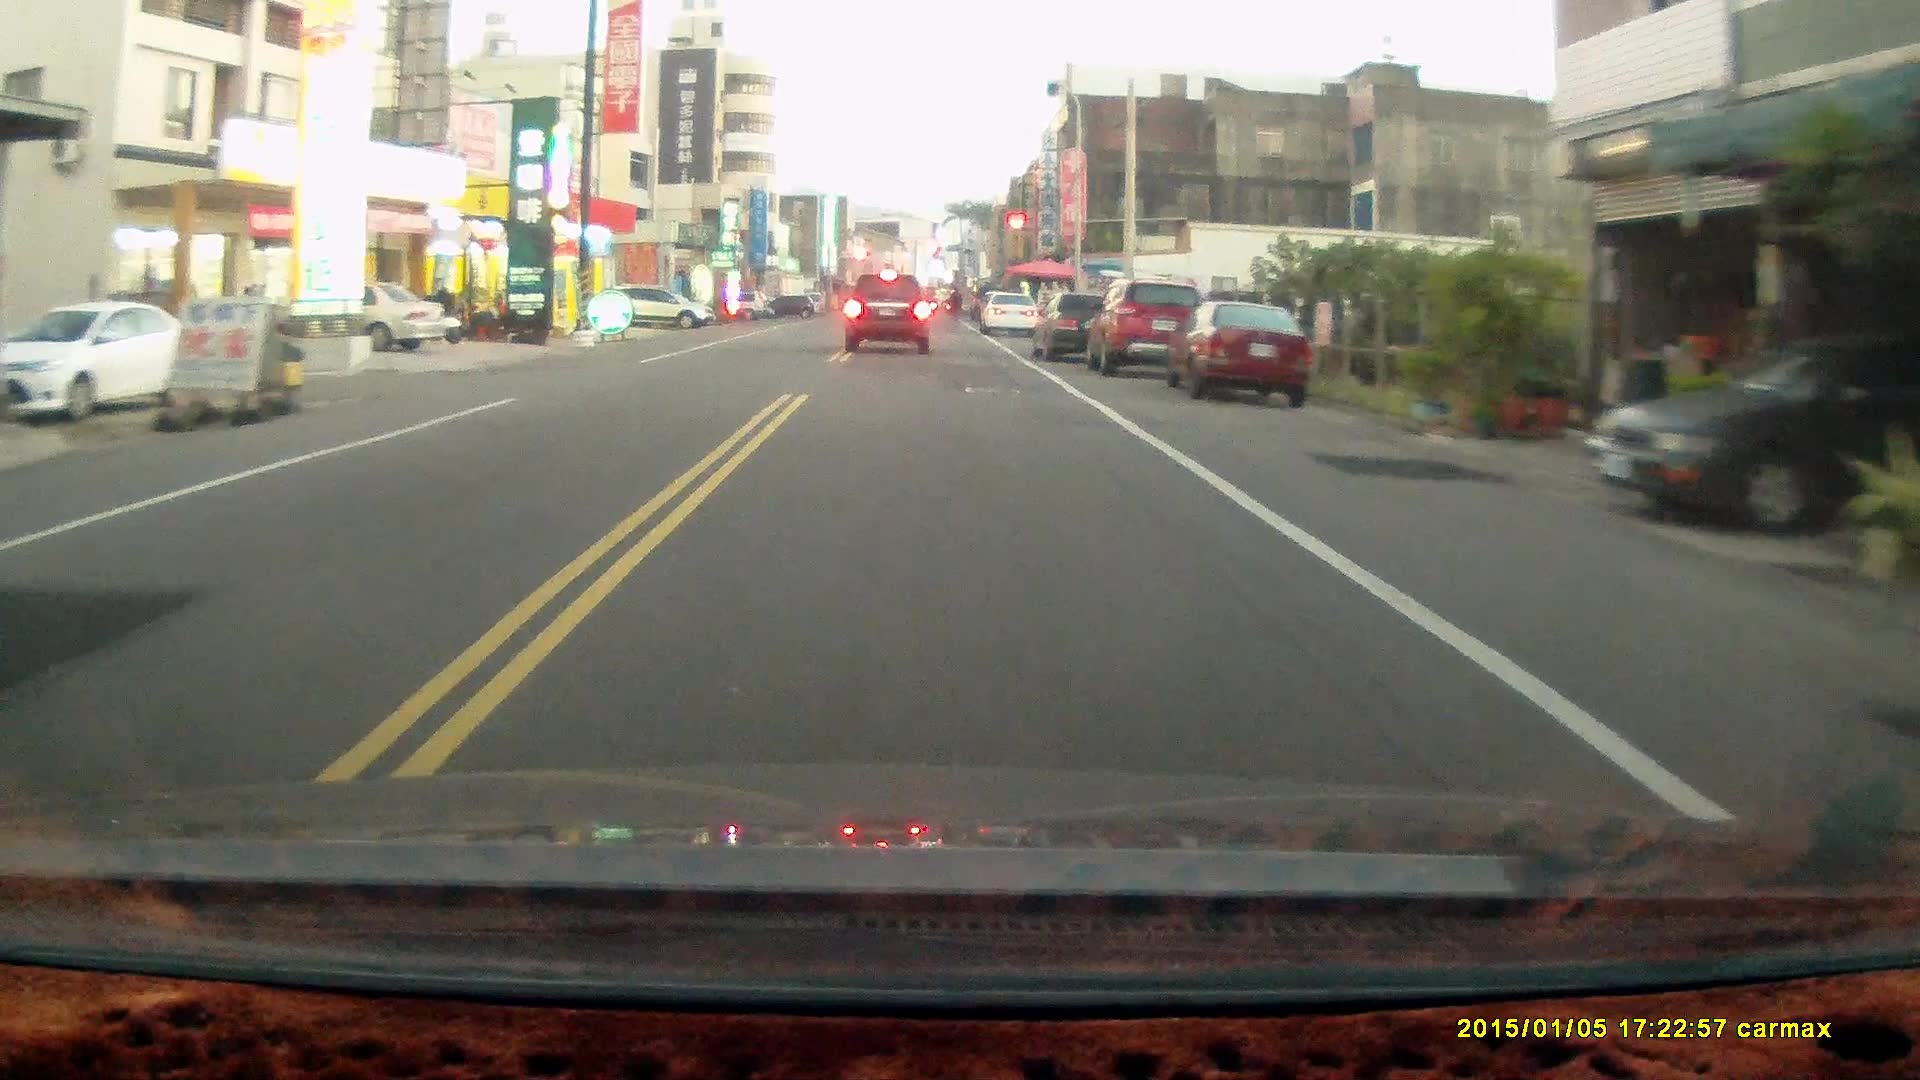vehicle: (1585, 336, 1920, 535), (7, 298, 218, 419), (1160, 299, 1319, 407), (273, 278, 451, 352), (1088, 278, 1207, 376), (1033, 291, 1141, 361), (844, 274, 934, 357), (613, 282, 709, 332), (980, 290, 1043, 338)
